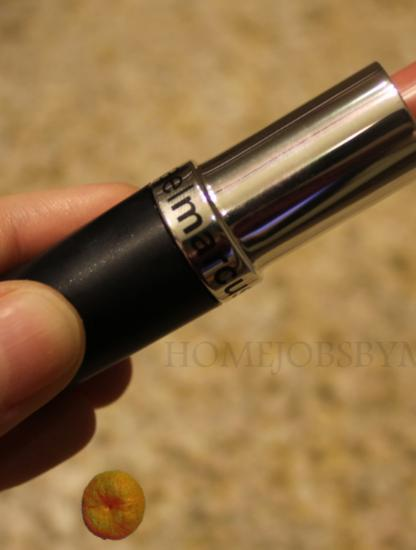Mandarine: (77, 469, 150, 542)
